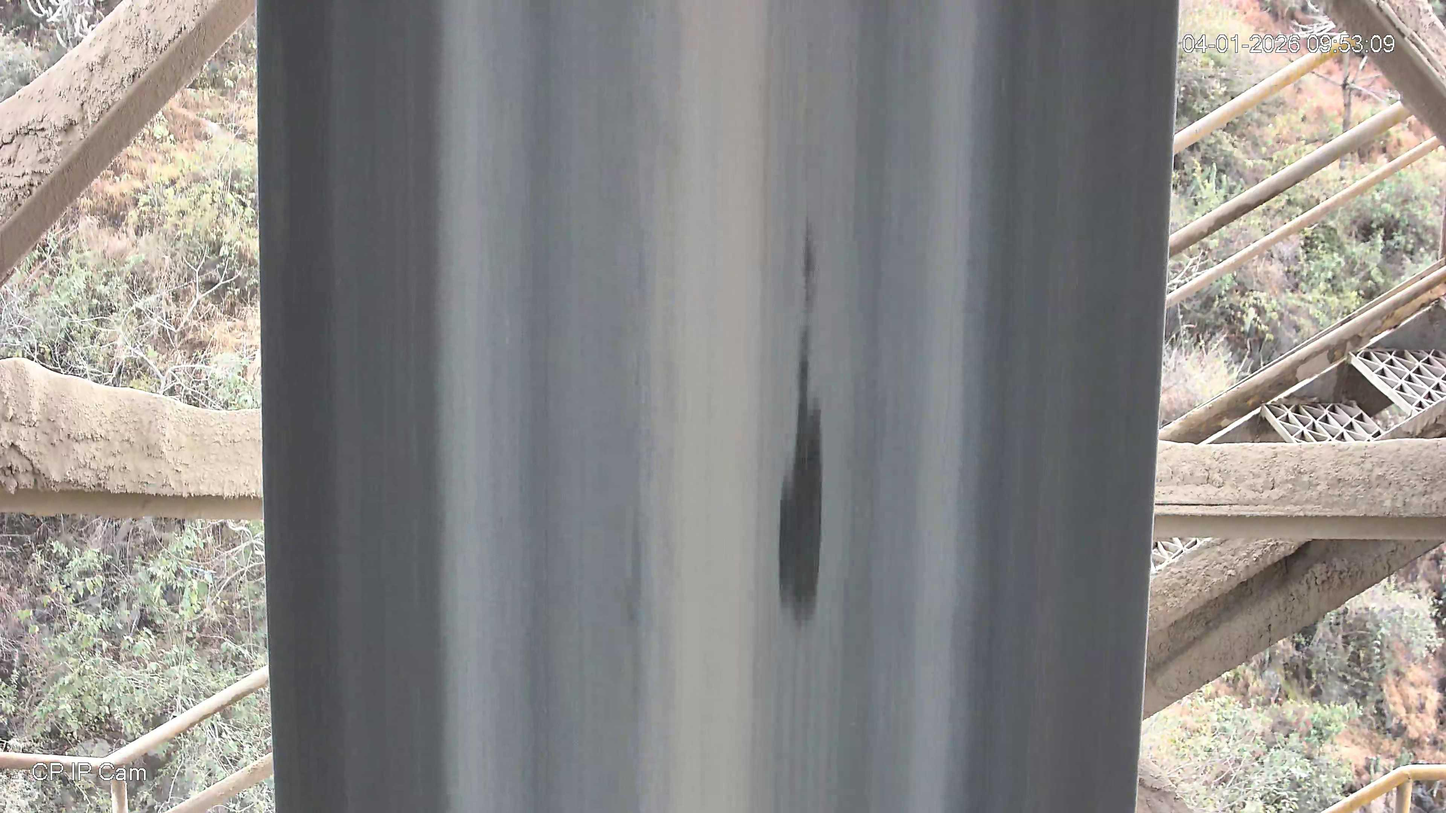belt_roi: (256, 0, 1180, 813)
